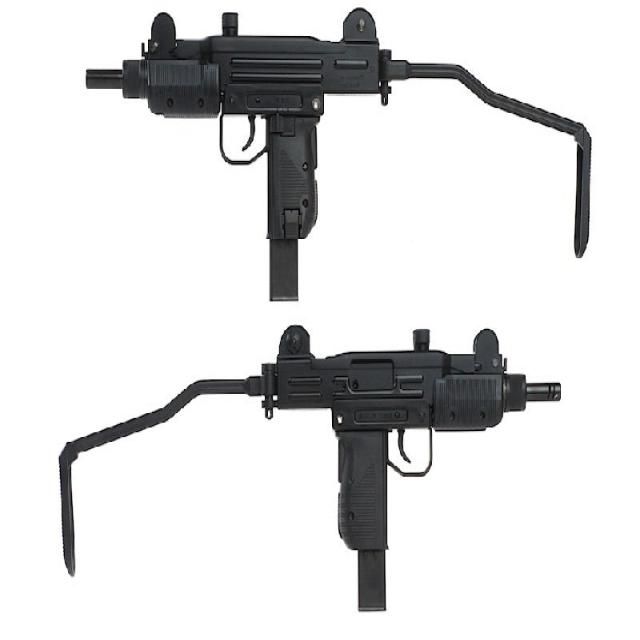SMG: (85, 8, 594, 304), (58, 325, 562, 615)
